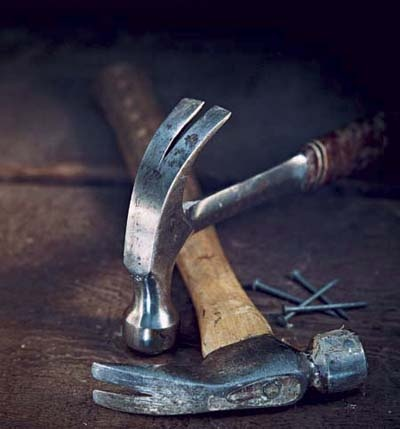hammer: (84, 52, 371, 407), (115, 92, 400, 348)
